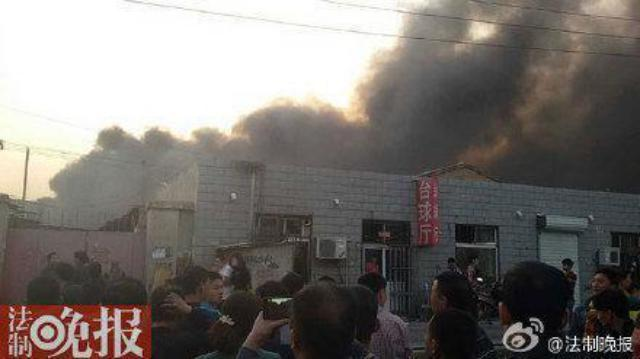smoke: (363, 0, 635, 178), (208, 99, 372, 171), (37, 128, 197, 201)
